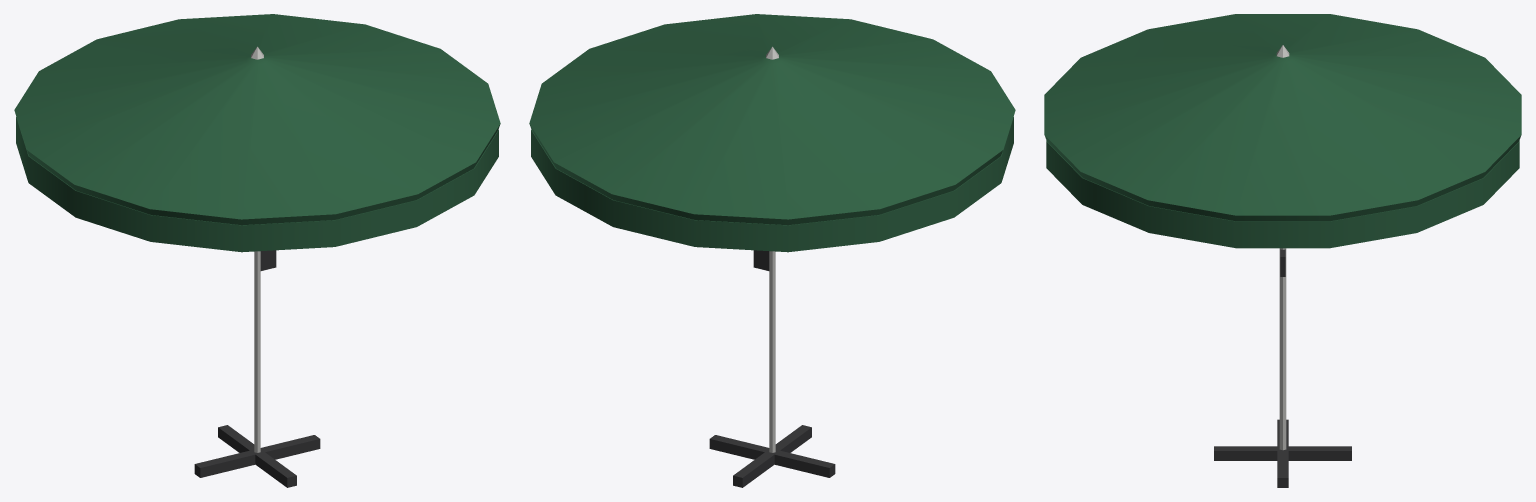
File: SM_Prop_cafe_parasol_1.glb
3 views of the same model, side by side, from view 1: azimuth 30°, elevation 25°; view 2: azimuth 150°, elevation 25°; view 3: azimuth 270°, elevation 25° (orthographic).
Visible parts, largest first — view 1: SM_Prop_cafe_parasol_1; view 2: SM_Prop_cafe_parasol_1; view 3: SM_Prop_cafe_parasol_1.
Part boxes in pixels (x1=…): SM_Prop_cafe_parasol_1: x1=14, y1=14, x2=500, y2=487; SM_Prop_cafe_parasol_1: x1=529, y1=14, x2=1015, y2=487; SM_Prop_cafe_parasol_1: x1=1044, y1=14, x2=1521, y2=487.
Size of the model in its own units: 2.59 by 2.48 by 2.59.
